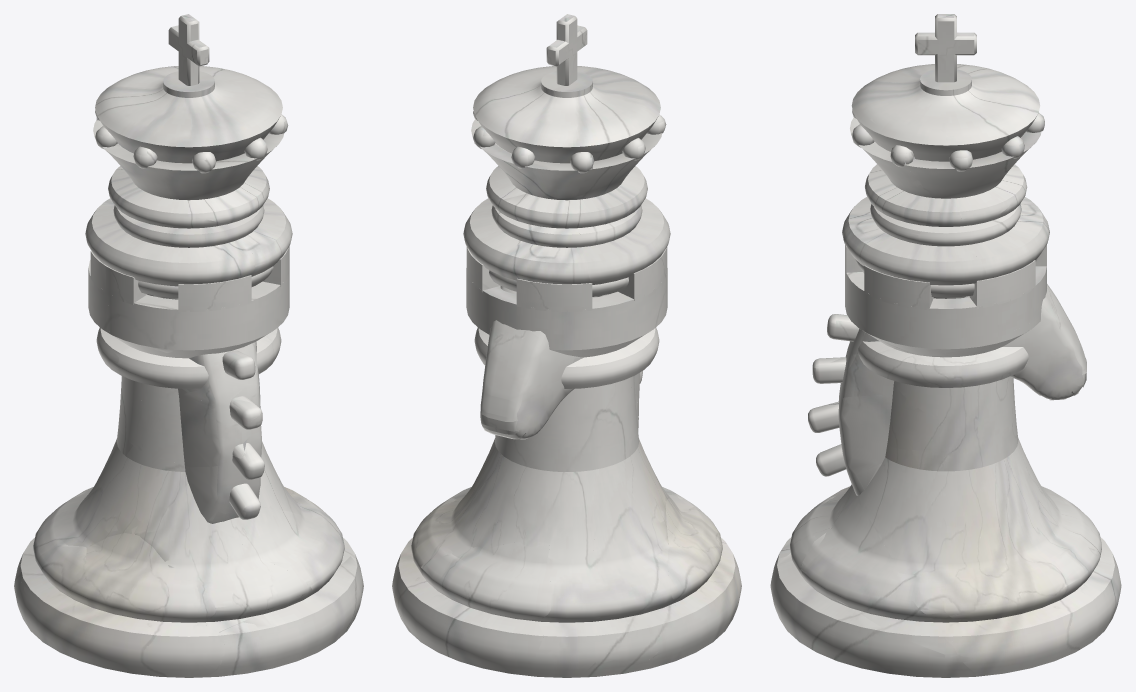
The model's file is pieces.glb.
The picture shows the model from 3 angles, left to right: view 1: azimuth 30°, elevation 25°; view 2: azimuth 150°, elevation 25°; view 3: azimuth 270°, elevation 25°; orthographic projection.
Visible parts, largest first — view 1: piece_king, frag_king_07, piece_rook, frag_king_08, piece_knight, piece_queen, frag_king_04, frag_rook_03, frag_queen_00, frag_king_00, frag_king_02, frag_king_03 (+8 smaller); view 2: piece_king, piece_rook, frag_king_12, frag_king_07, frag_king_03, frag_king_13, frag_king_08, frag_rook_06, piece_queen, frag_king_11, frag_king_01, piece_knight (+6 smaller); view 3: piece_king, piece_rook, frag_king_13, piece_knight, frag_king_09, frag_king_02, frag_king_04, piece_queen, frag_rook_03, frag_king_10, frag_king_08, frag_queen_04 (+14 smaller).
Part boxes in pixels (x1,y1,x2,y2): piece_king: (14, 16, 363, 677); frag_king_07: (22, 200, 255, 677); piece_rook: (88, 246, 289, 471); frag_king_08: (97, 14, 264, 224); piece_knight: (163, 297, 264, 523); piece_queen: (93, 110, 286, 295); frag_king_04: (212, 554, 361, 676); frag_rook_03: (106, 247, 289, 371); frag_queen_00: (95, 114, 288, 298); frag_king_00: (21, 524, 311, 631); frag_king_02: (204, 509, 353, 590); frag_king_03: (14, 449, 160, 583); piece_king: (392, 16, 741, 677); piece_rook: (466, 246, 667, 471); frag_king_12: (397, 542, 552, 674); frag_king_07: (586, 169, 740, 655); frag_king_03: (586, 440, 676, 671); frag_king_13: (393, 440, 571, 621); frag_king_08: (547, 14, 658, 227); frag_rook_06: (466, 246, 659, 352); piece_queen: (471, 113, 665, 296); frag_king_11: (515, 467, 605, 677); frag_king_01: (463, 193, 590, 283); piece_knight: (480, 286, 642, 439); piece_king: (770, 14, 1120, 677); piece_rook: (845, 244, 1046, 471); frag_king_13: (942, 437, 1065, 674); piece_knight: (808, 301, 1086, 495); frag_king_09: (843, 118, 986, 284); frag_king_02: (801, 484, 957, 656); frag_king_04: (771, 553, 978, 677); piece_queen: (850, 109, 1044, 297); frag_rook_03: (845, 245, 951, 416); frag_king_10: (902, 79, 1039, 226); frag_king_08: (856, 14, 1027, 196); frag_queen_04: (904, 113, 1044, 296).
Size of the model in its own units: 0.783 by 1.45 by 0.783.
Materials: 2 (1 with a texture image).
